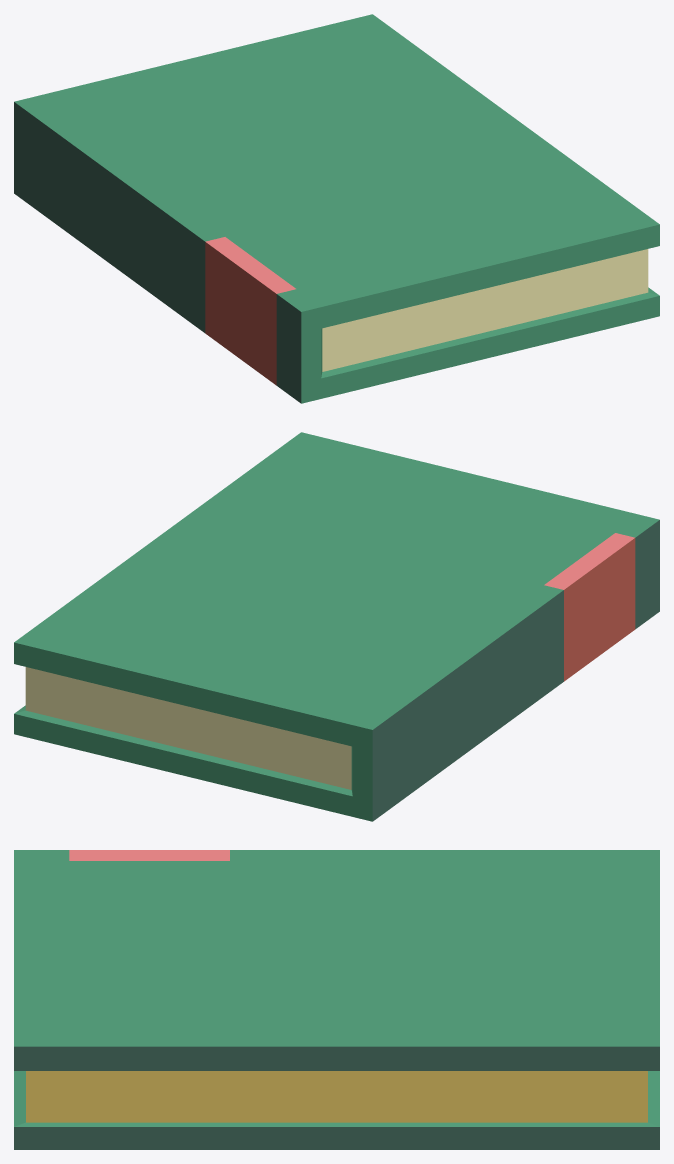
The model's file is Book.fbx.
The picture shows the model from 3 angles, top to bottom: view 1: azimuth 30°, elevation 25°; view 2: azimuth 150°, elevation 25°; view 3: azimuth 270°, elevation 25°; orthographic projection. The views are drawn at different scales.
Visible parts, largest first — view 1: Book; view 2: Book; view 3: Book.
Part boxes in pixels (x1,y1,x2,y2): Book: (14,14,659,403); Book: (14,432,659,821); Book: (14,850,659,1149).
Bounding box in the file's own units: 45.32 × 11.08 × 62.87.
